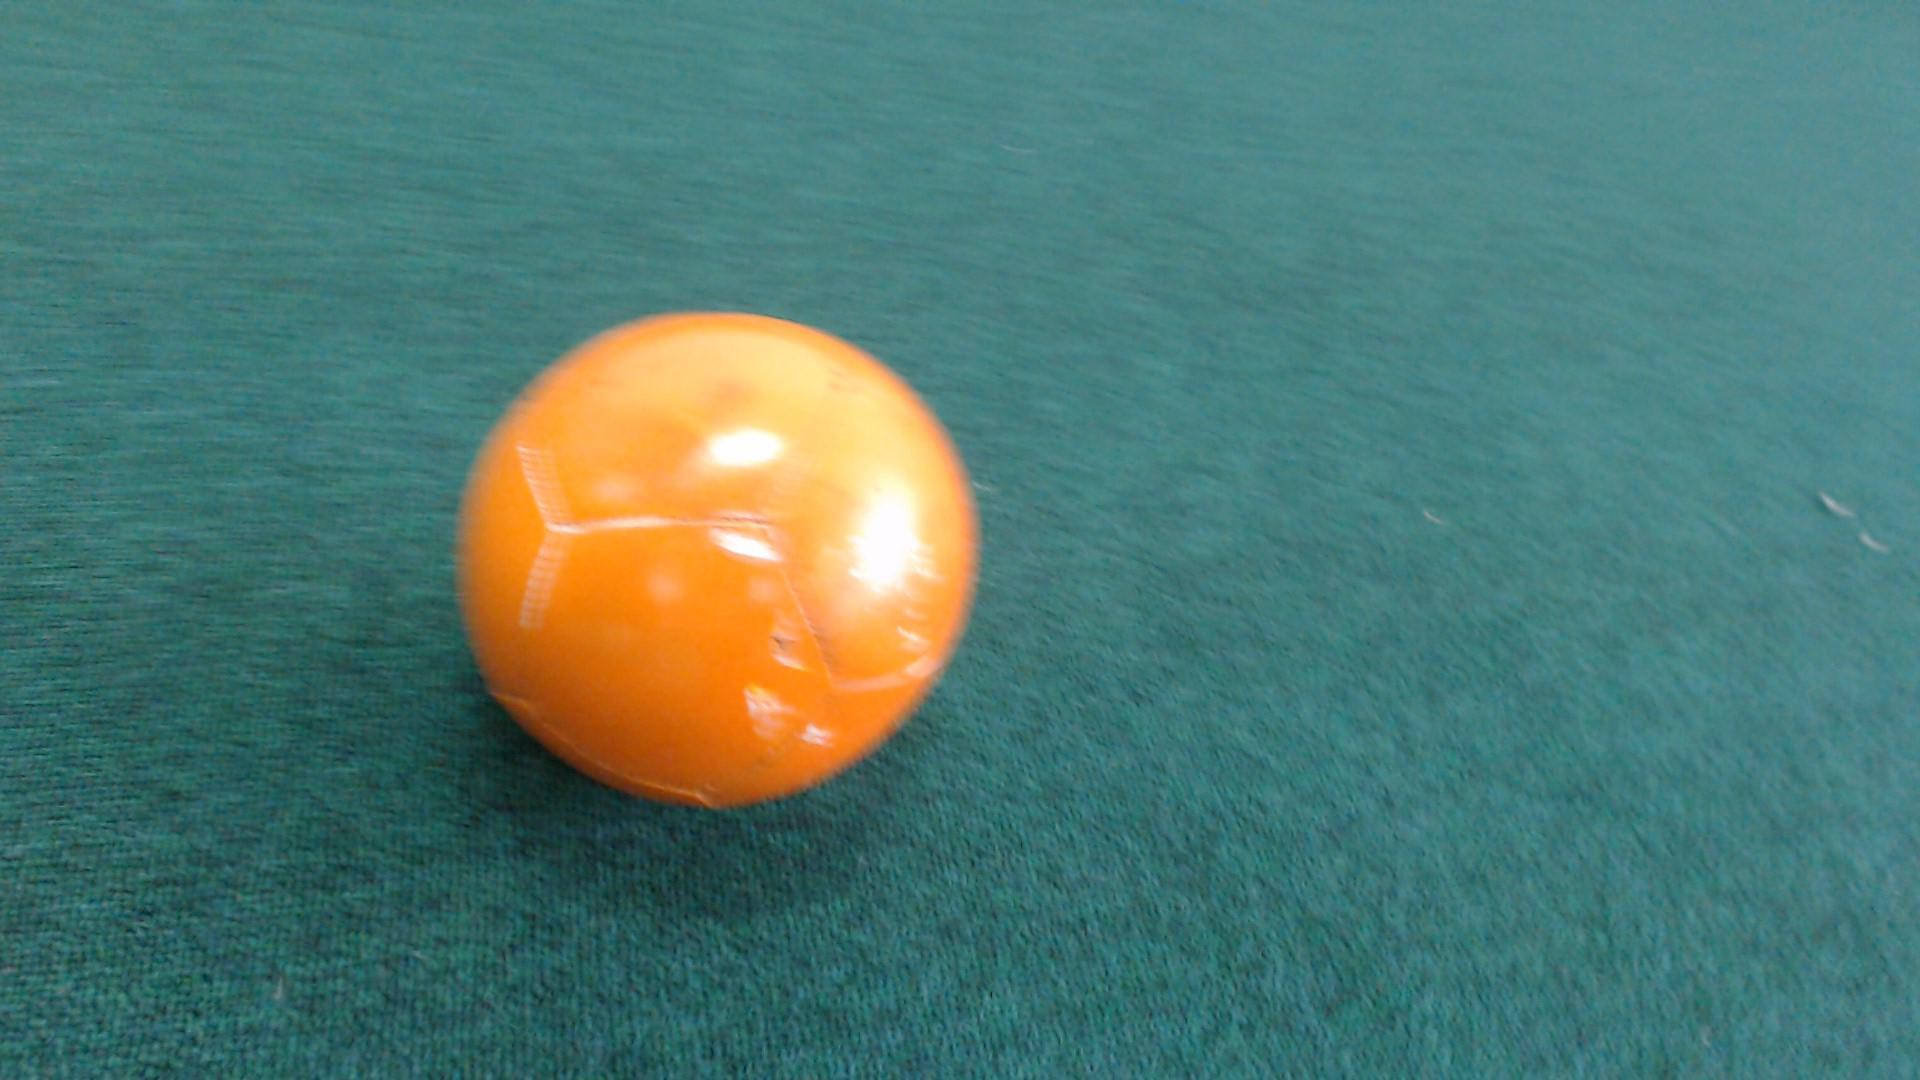bola: (429, 295, 1014, 844)
